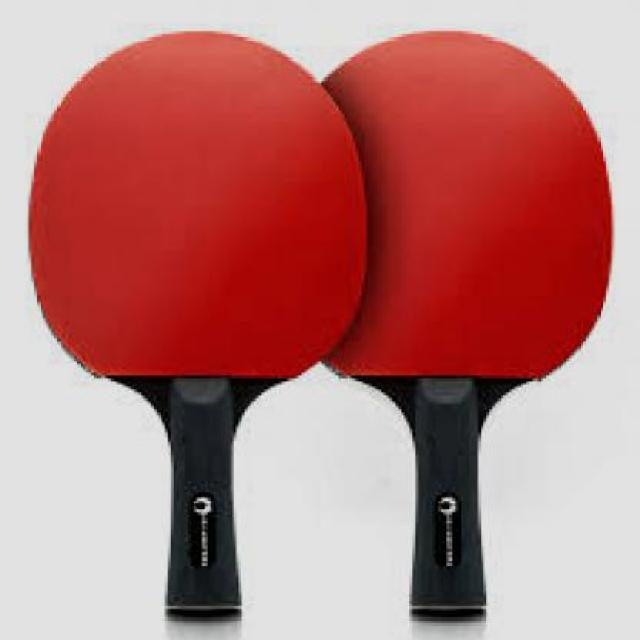table_tennis_racket: (26, 37, 362, 624), (324, 22, 614, 622)
